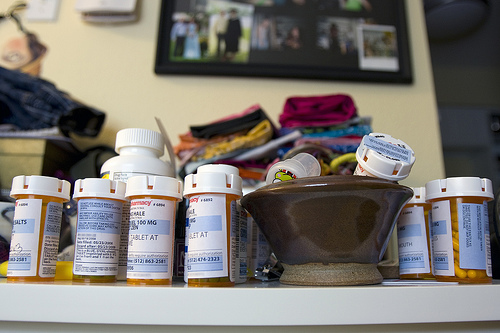pill bottle: (426, 176, 497, 289), (181, 171, 243, 292), (7, 172, 70, 287), (70, 175, 128, 290), (126, 175, 182, 290)
